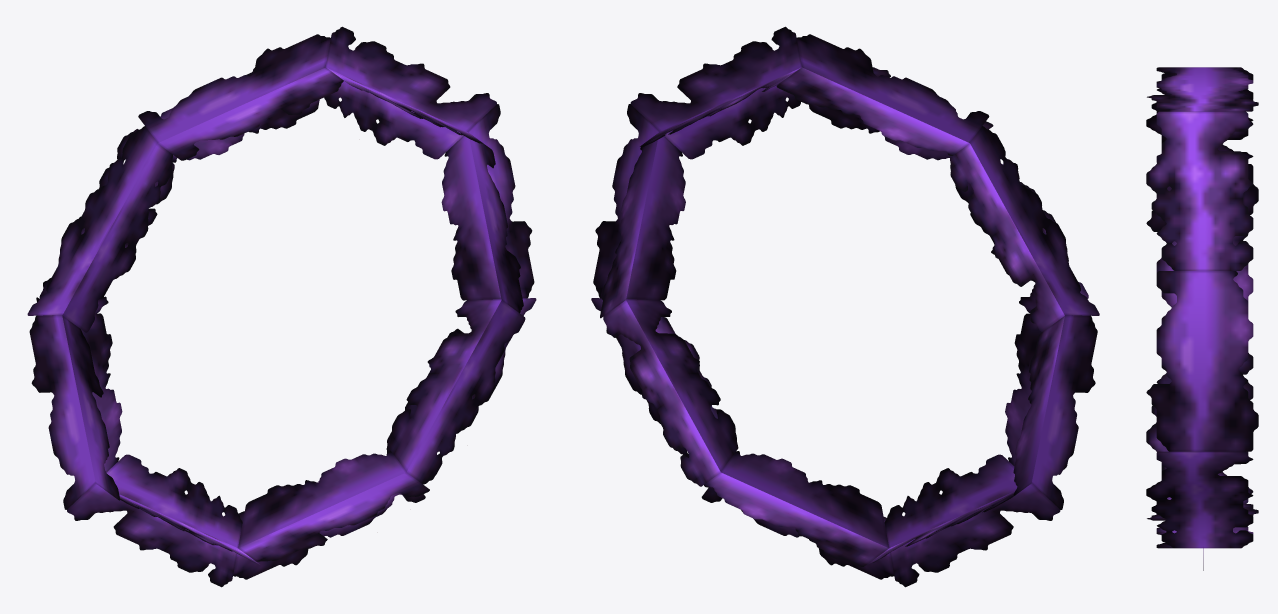
3 renders of one model, left to right at view 1: azimuth 30°, elevation 25°; view 2: azimuth 150°, elevation 25°; view 3: azimuth 270°, elevation 25°, orthographic. The views are drawn at different scales.
Visible parts, largest first — view 1: T1L3M005_14; view 2: T1L3M005_14; view 3: T1L3M005_14.
Part boxes in pixels (x1,y1,x2,y2): T1L3M005_14: [27, 26, 536, 587]; T1L3M005_14: [591, 26, 1099, 587]; T1L3M005_14: [1146, 67, 1258, 570].
Size of the model in its own units: 2.83 by 2.83 by 0.5957.
